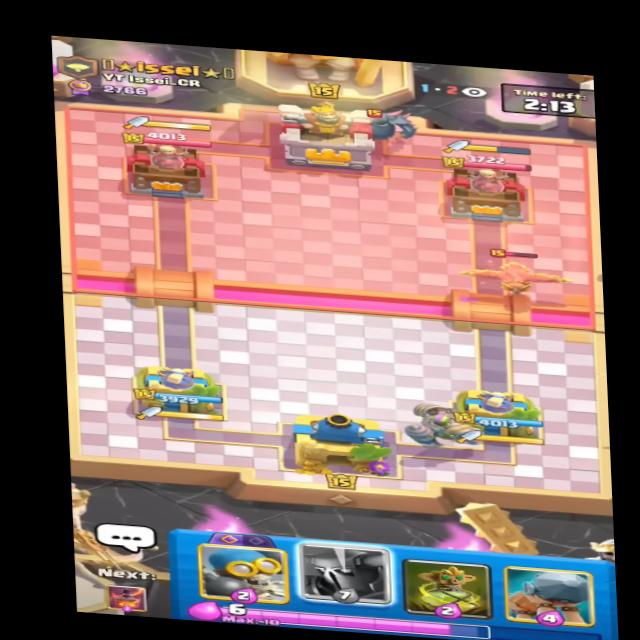pekka: (342, 99, 419, 146)
phoenix: (457, 247, 579, 303)
